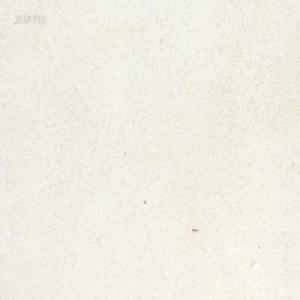Nail: (192, 227, 199, 232)
